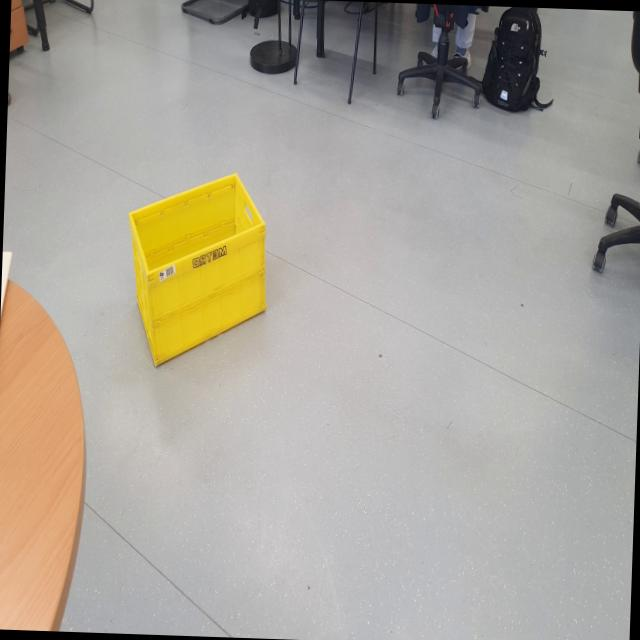box: (121, 144, 276, 388)
